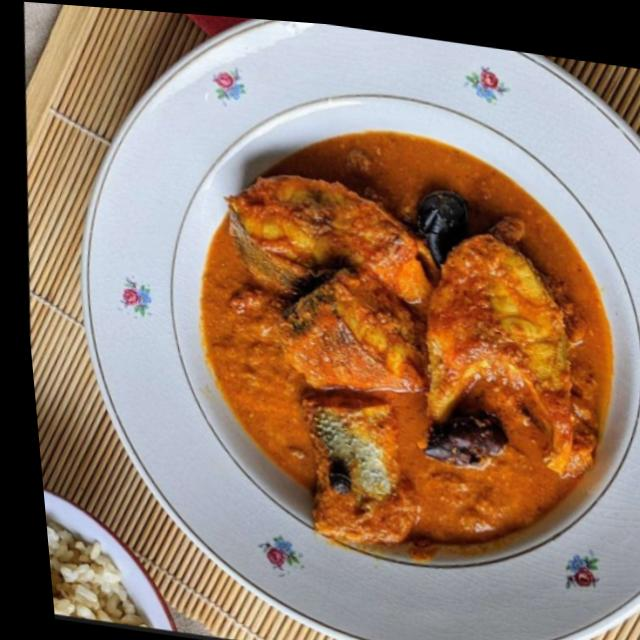FISH CURRY: (199, 132, 611, 560)
